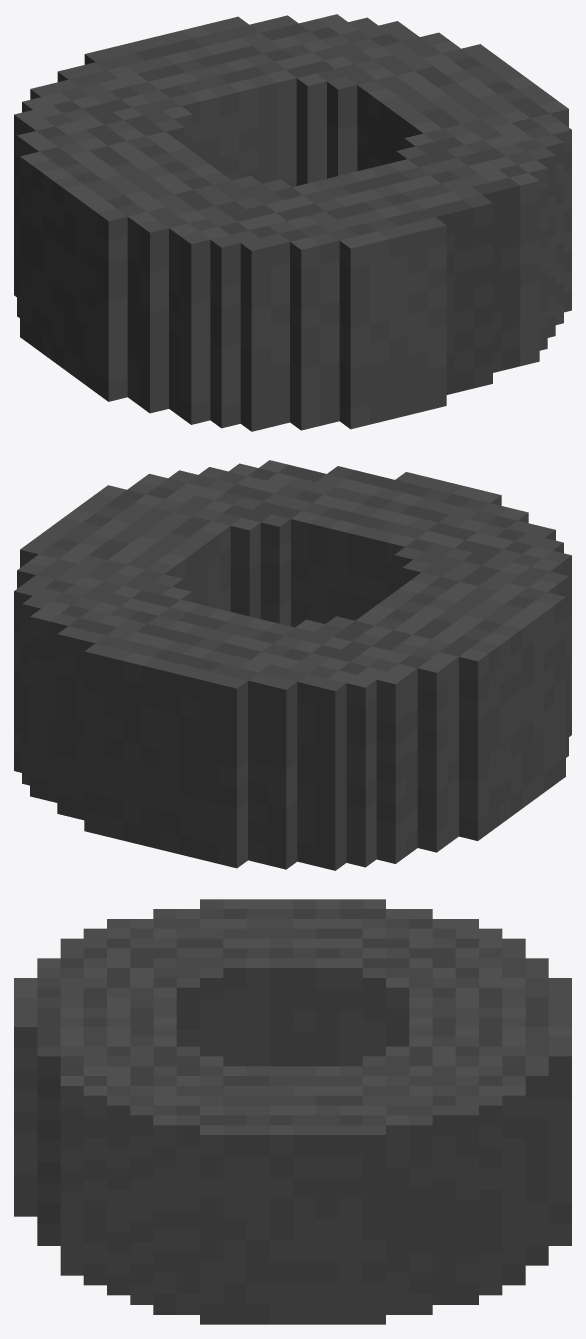
The model's file is Cinta.obj.
3 renders of one model, top to bottom at view 1: azimuth 30°, elevation 25°; view 2: azimuth 150°, elevation 25°; view 3: azimuth 270°, elevation 25°, orthographic. The views are drawn at different scales.
Size of the model in its own units: 2.4 by 0.9 by 2.4.
1 material, 1 textured.
